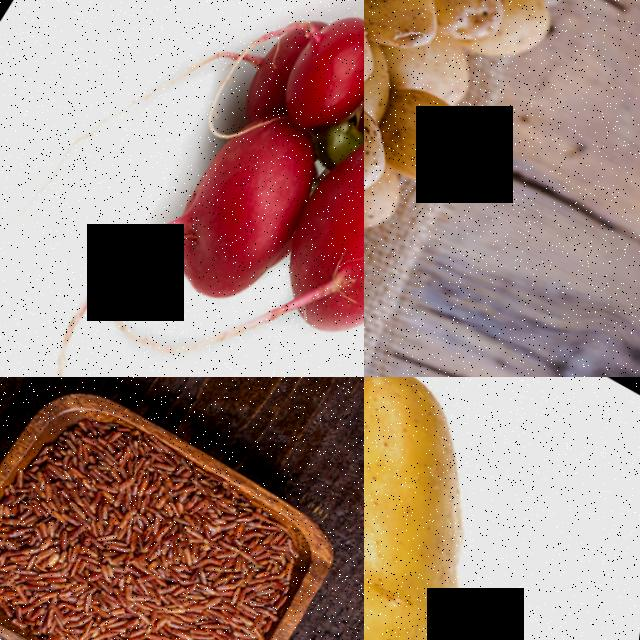potato: (364, 377, 575, 621), (377, 81, 508, 198), (419, 0, 578, 75), (364, 69, 425, 218)
radishes: (101, 0, 364, 377)
red rice: (0, 390, 350, 640)
